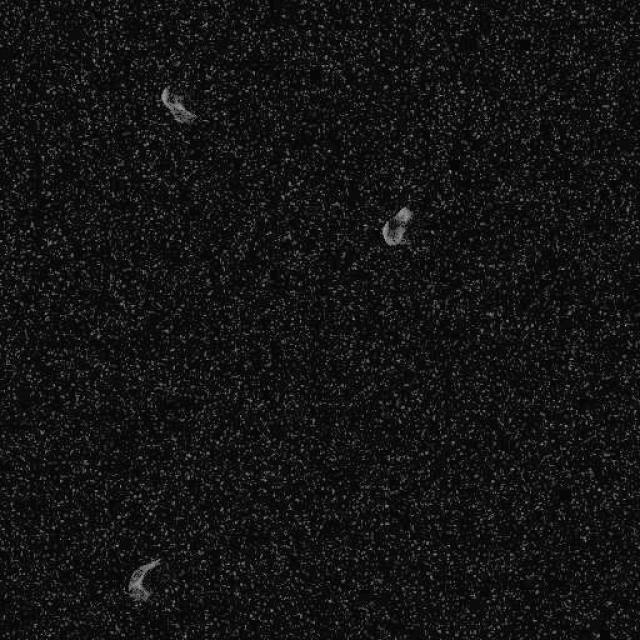D2: (125, 556, 161, 602), (158, 85, 198, 126), (380, 205, 412, 246)
